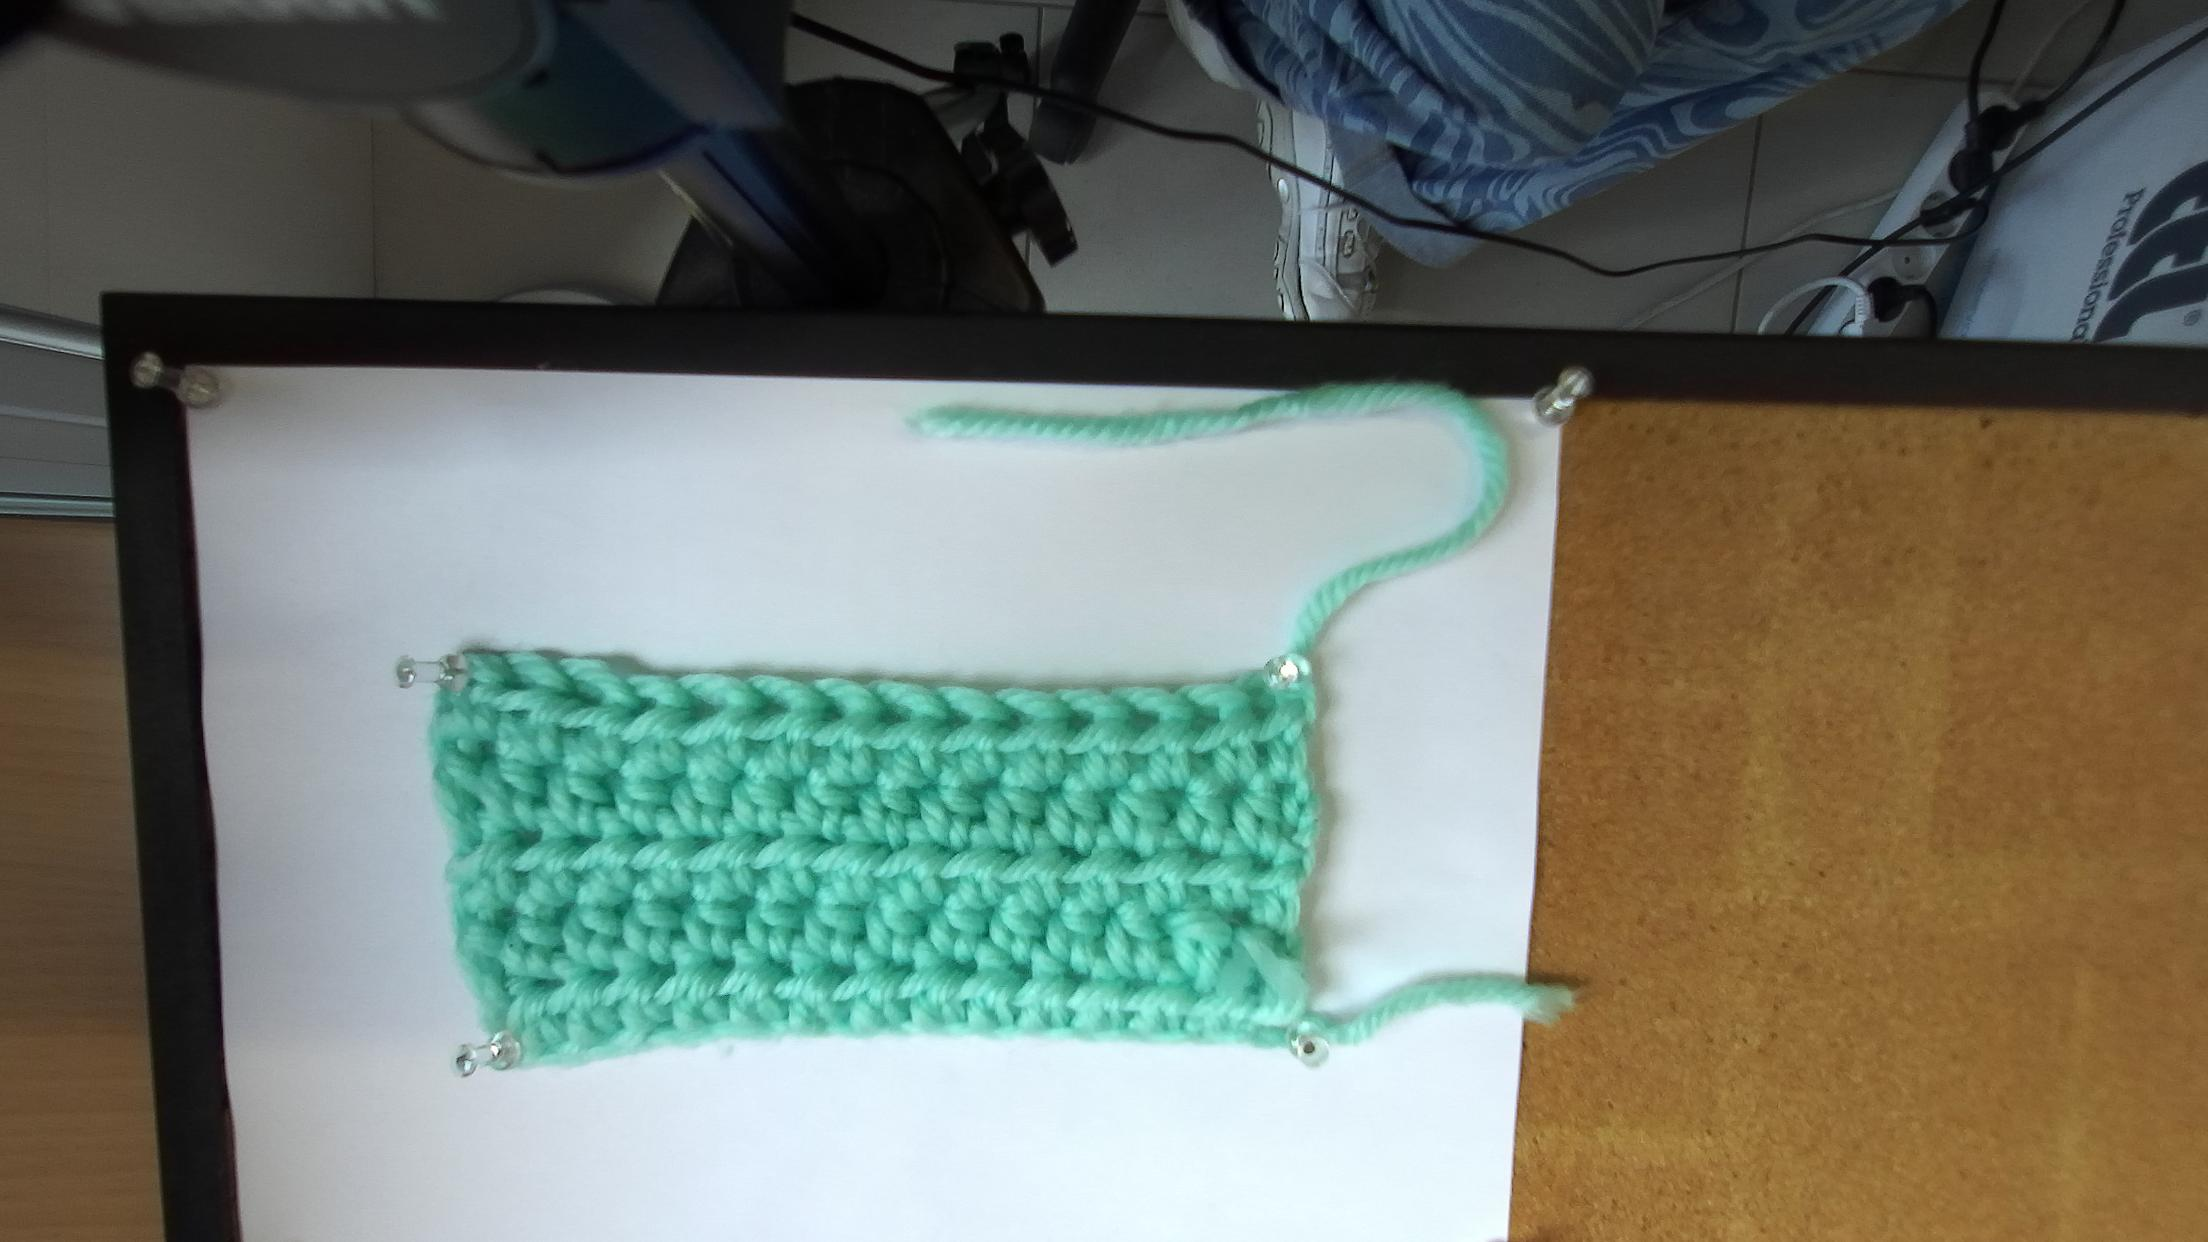hole: (554, 676, 602, 708), (742, 695, 790, 723), (681, 688, 722, 722), (873, 699, 914, 729), (494, 669, 540, 695), (986, 710, 1027, 737), (1122, 705, 1159, 734), (1187, 707, 1221, 735), (937, 705, 972, 732), (1057, 708, 1093, 734), (1250, 696, 1277, 728), (816, 699, 848, 725), (625, 696, 658, 719)
swatch: (423, 649, 1325, 1075)
